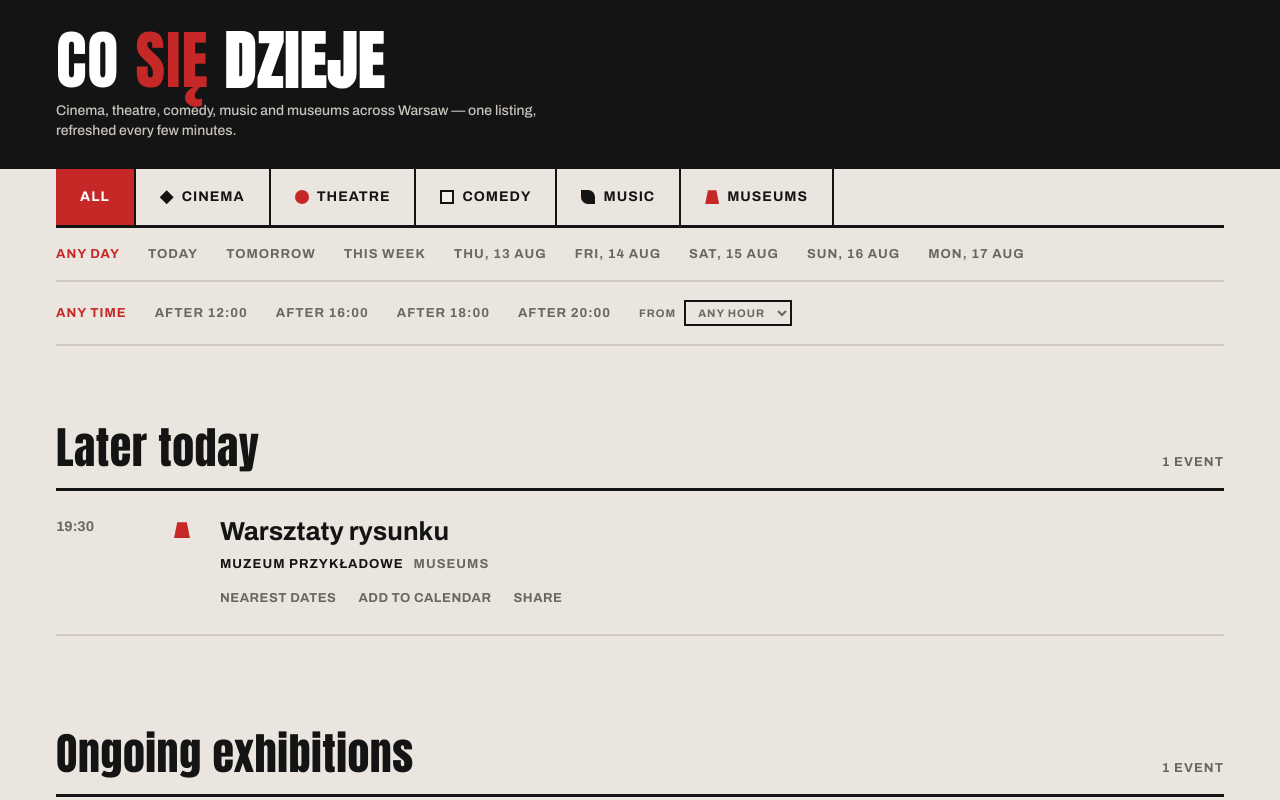
it: museums view (GOI-67) › applying a time filter removes exhibitions from the DOM entirely
Click the button "After 18:00" at (443,313), box [397,305,490,321]
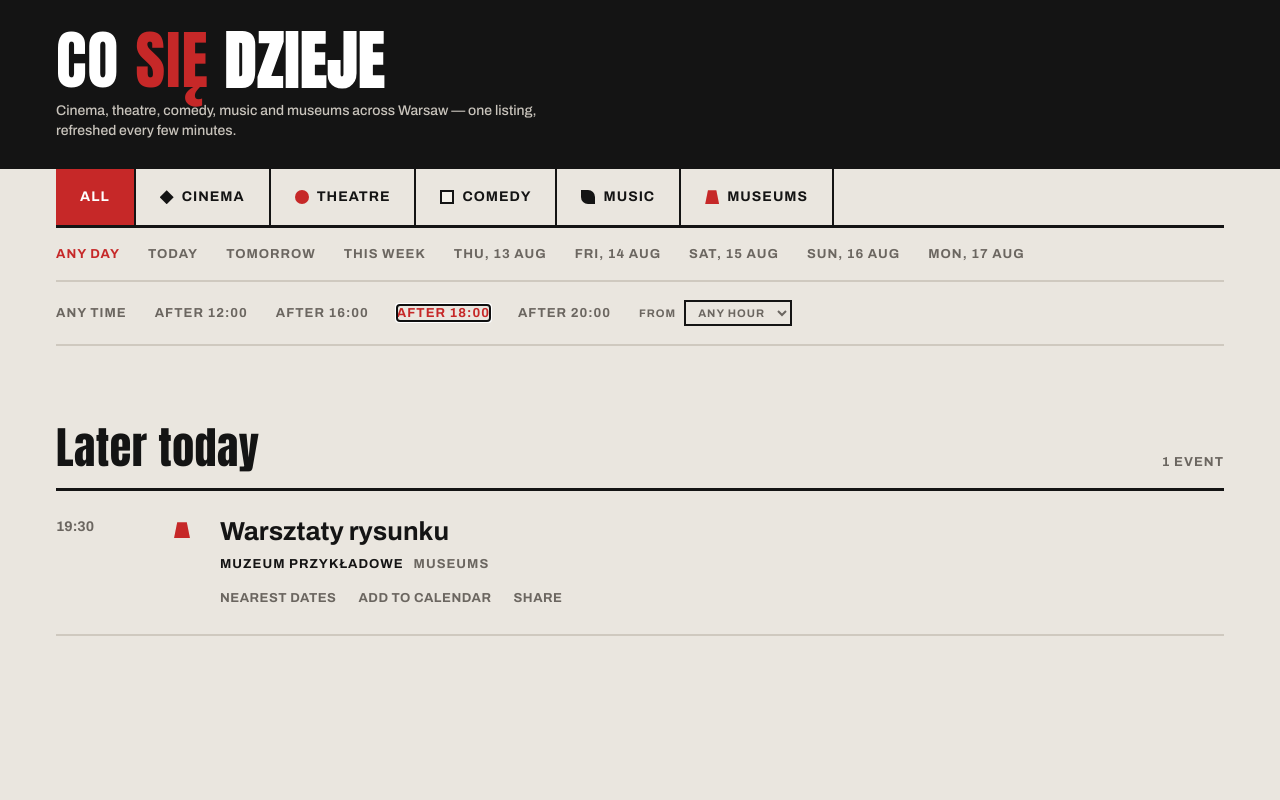
Expected: the heading "Warsztaty rysunku" is shown, [220,517,449,547]
Now the heading "Ongoing exhibitions" is gone
